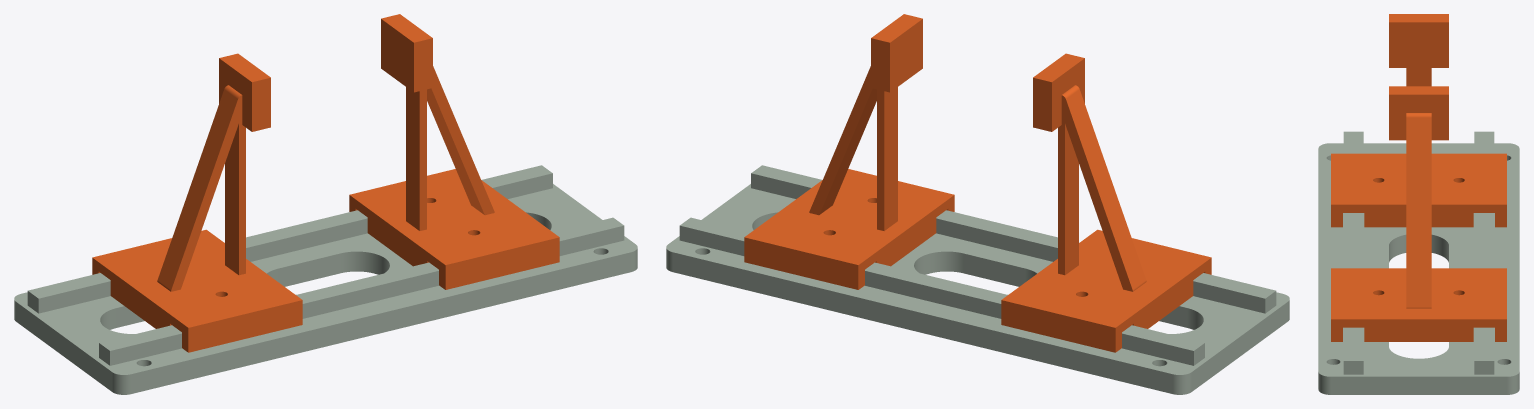
The picture shows the model from 3 angles, left to right: view 1: azimuth 30°, elevation 25°; view 2: azimuth 150°, elevation 25°; view 3: azimuth 270°, elevation 25°; orthographic projection. The views are drawn at different scales.
Visible parts, largest first — view 1: base, left, right; view 2: base, left, right; view 3: base, right, left.
Boxes of the visible parts, x1,y1,x2,y2 form: base: (14, 165, 637, 394); left: (92, 53, 302, 352); right: (349, 14, 559, 289); base: (666, 165, 1289, 394); left: (1001, 53, 1211, 352); right: (744, 14, 954, 289); base: (1318, 131, 1519, 394); right: (1331, 86, 1506, 341); left: (1331, 14, 1506, 227).
Size of the model in its own units: 220 by 98.3 by 80.
